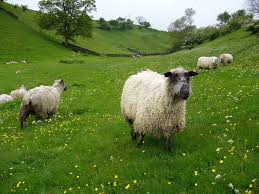sheep: (119, 67, 195, 153), (15, 79, 64, 127), (197, 56, 220, 72), (218, 54, 233, 68)
